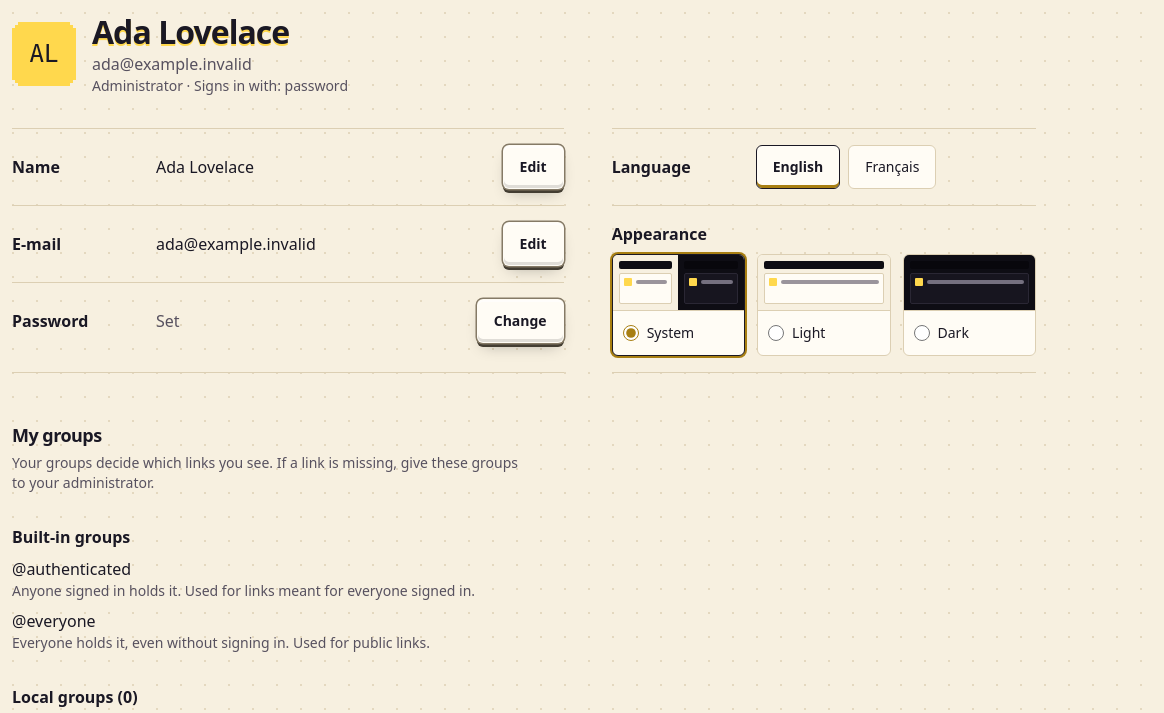
Test: Account, profile fields › edits the name alone in its row, announces the save and gives the focus back to the row's button
The width and height of the screenshot is (1164, 713).
Click the button with aria-label "Edit: Name".
click(533, 167)  # box x1=503 y1=145 x2=564 y2=189
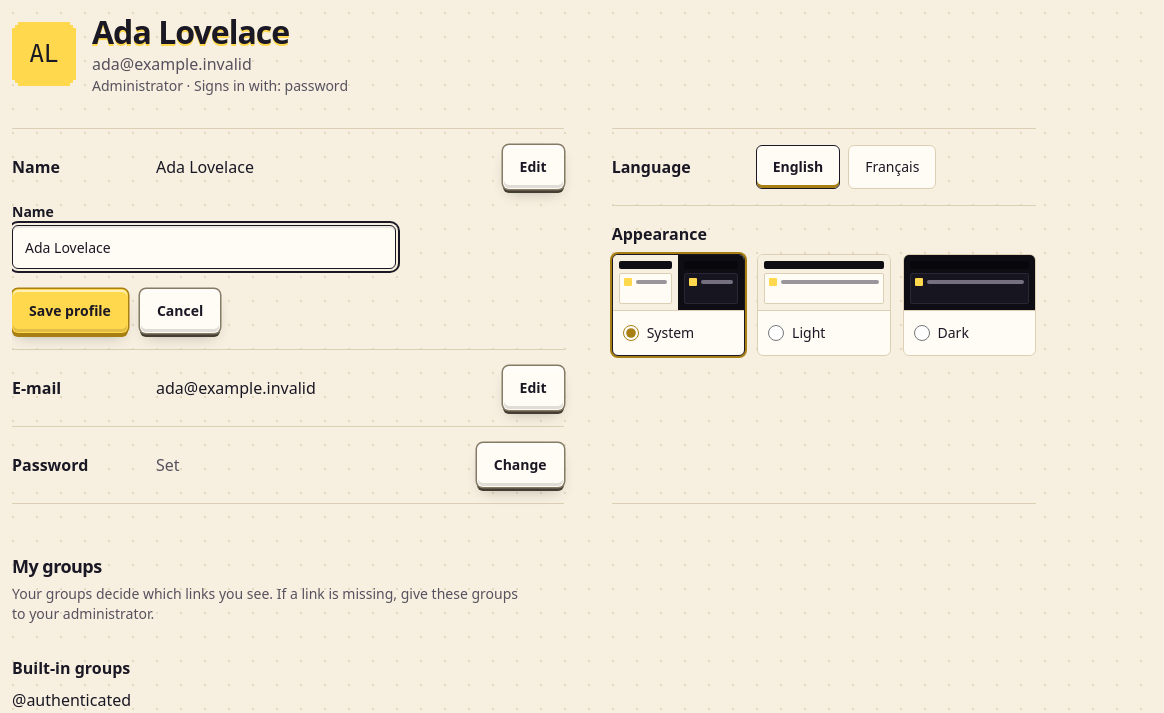
Replace the text in the field labelled "Name" with "Ada King" at (204, 247), box x1=12 y1=225 x2=396 y2=269
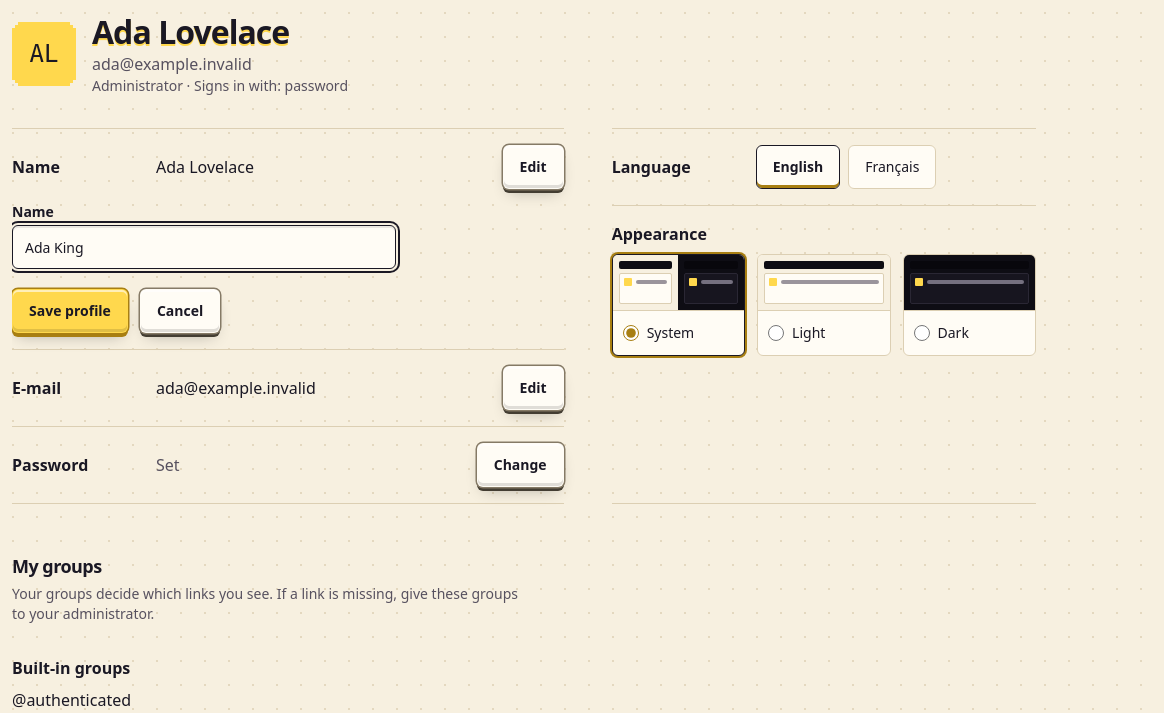
Click the button "Save profile".
click(70, 311)  # box x1=12 y1=289 x2=128 y2=333
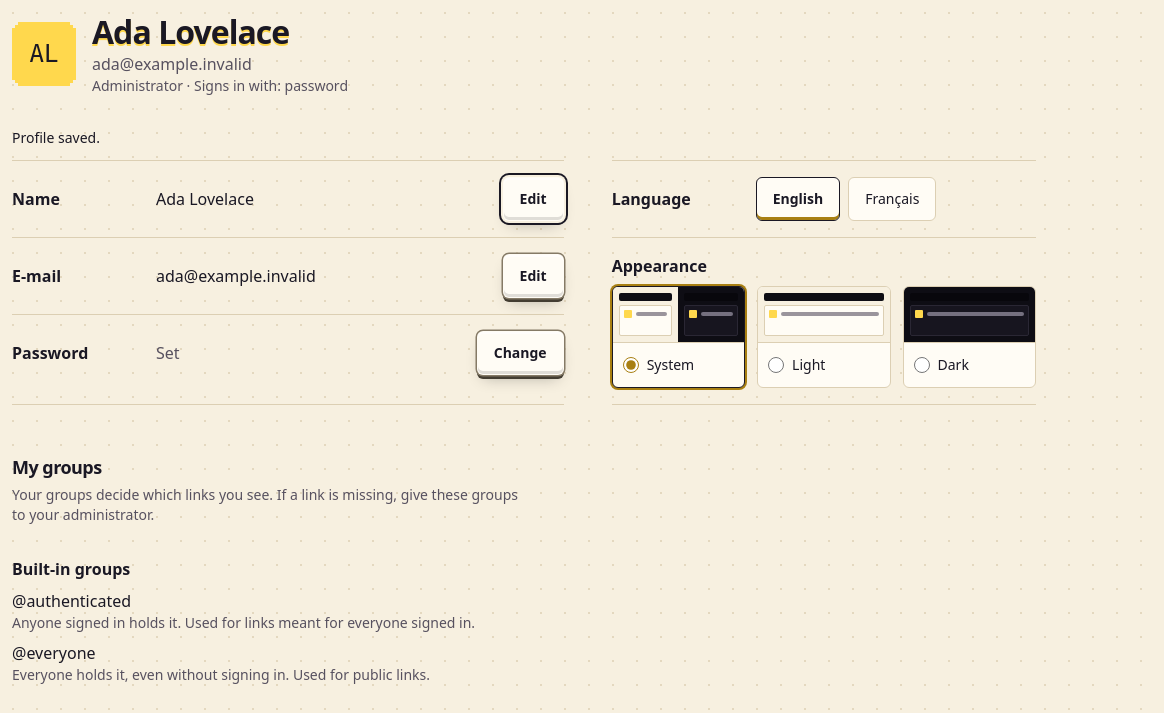
Check: the text "Profile saved." is shown, box x1=12 y1=128 x2=100 y2=147
